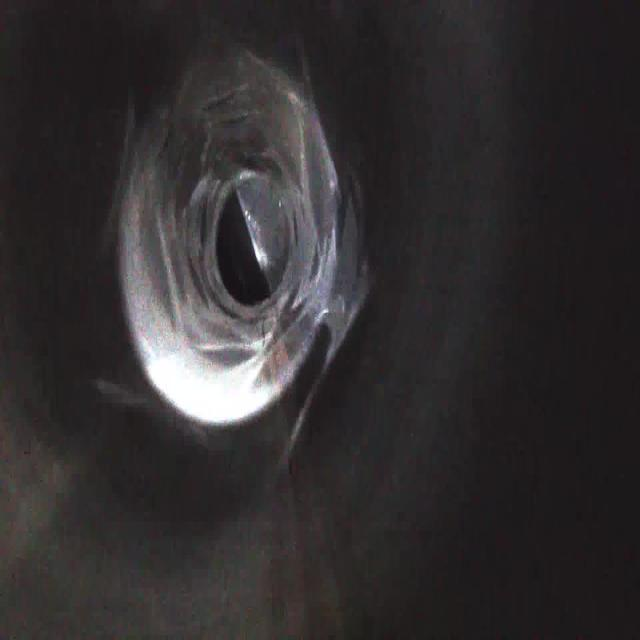crack: (194, 73, 270, 142), (177, 195, 211, 317), (187, 336, 265, 385), (297, 234, 336, 322)
